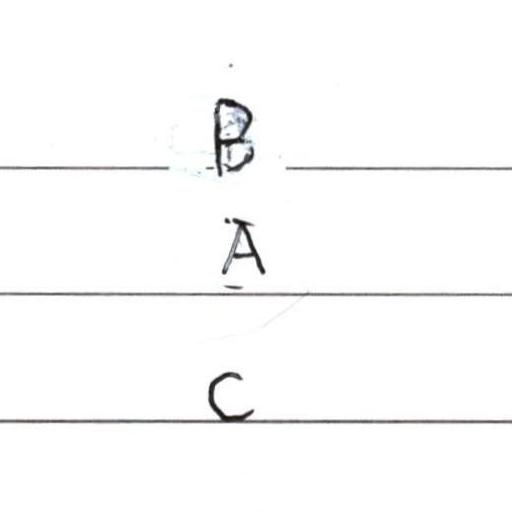ans: (204, 88, 256, 177), (205, 370, 256, 423), (221, 217, 265, 277)
